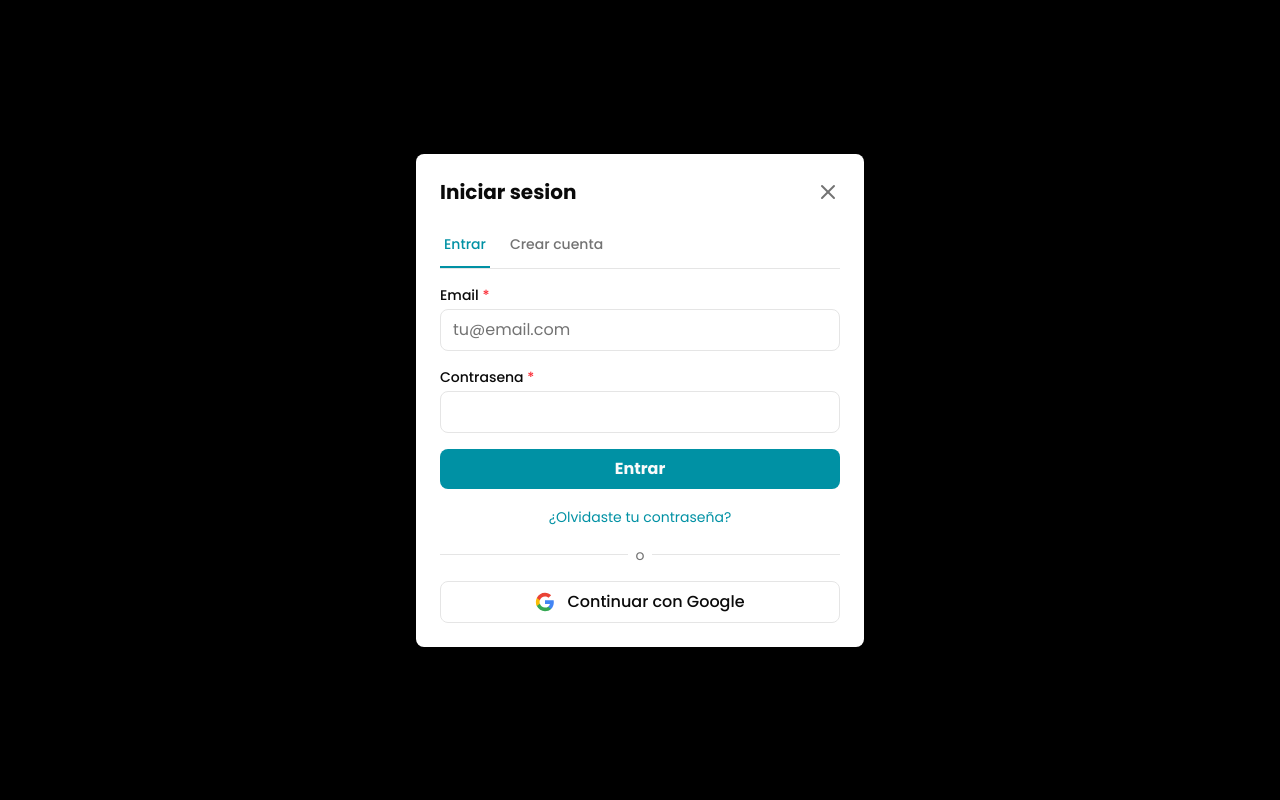
Scenario: AuthModal › shows validation error for empty email on login submit
Type "password123" into the password field labelled "Contrasena *" at (640, 412), box [440,390,840,432]
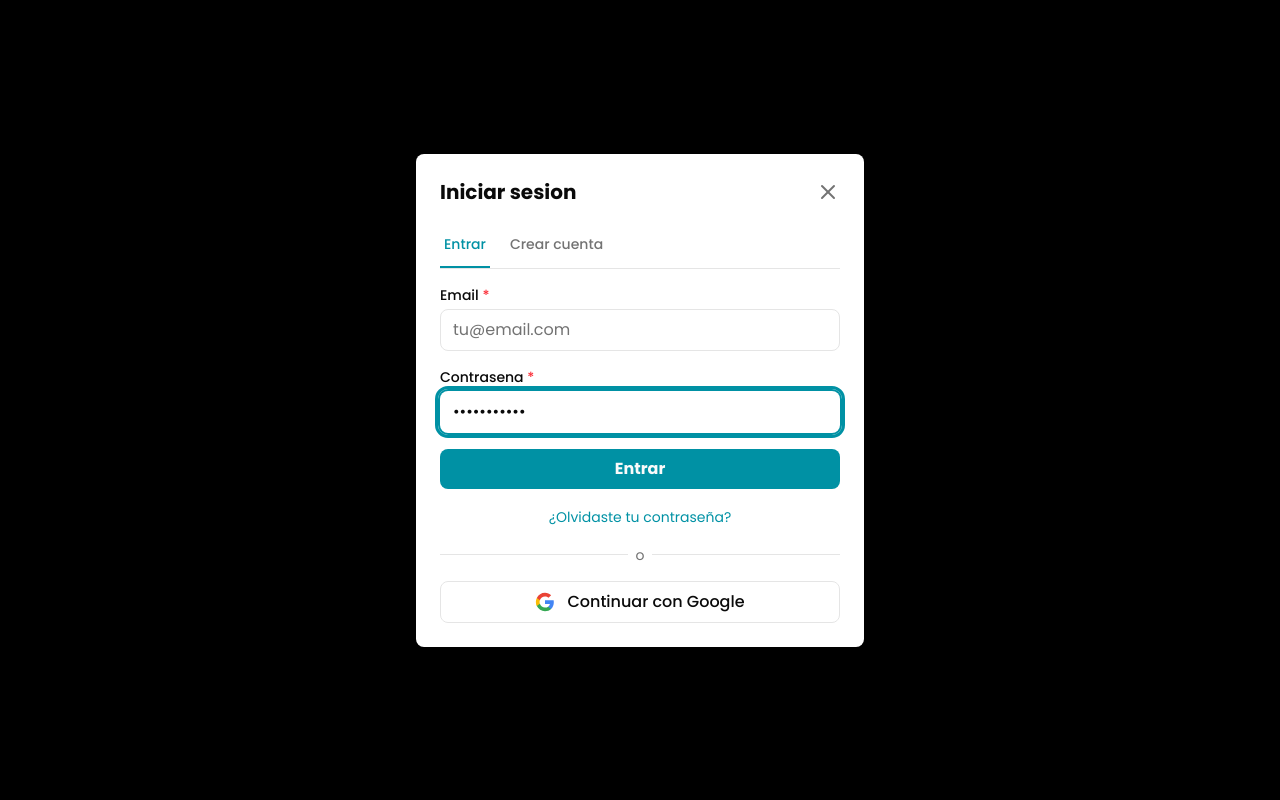
Click the button "Entrar" below "Contrasena" at (640, 468), box [440,448,840,488]
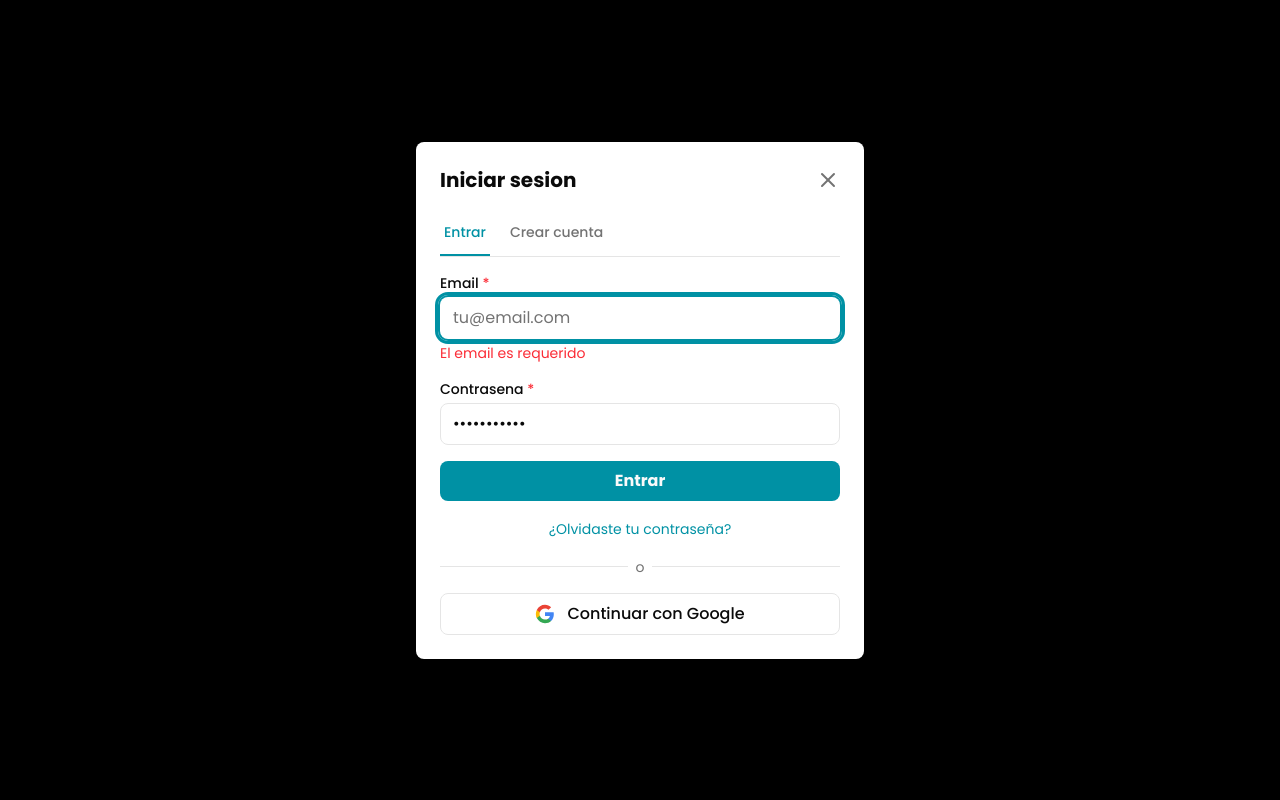
Now the text "El email es requerido" is shown, box [440,342,585,362]
